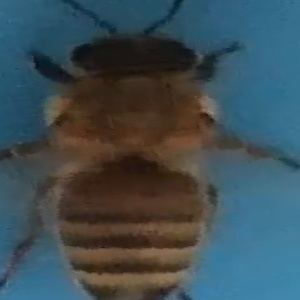bee: (13, 2, 277, 300)
